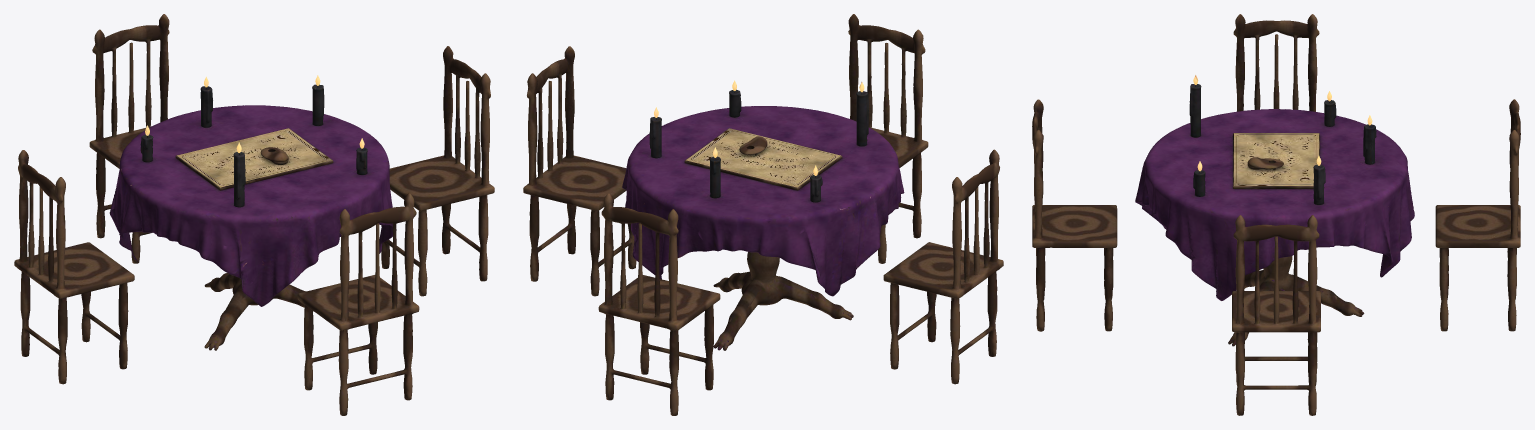
Rendered from seance_table.glb.
3 renders of one model, left to right at view 1: azimuth 30°, elevation 25°; view 2: azimuth 150°, elevation 25°; view 3: azimuth 270°, elevation 25°, orthographic. The views are drawn at different scales.
Visible parts, largest first — view 1: Velvet_Cloth, Chair_0, Chair_3, Chair_1, Chair_2, Board_Face, Seance_Wax, Table, Spirit_Board; view 2: Velvet_Cloth, Chair_2, Chair_3, Chair_1, Chair_0, Board_Face, Table, Seance_Wax, Spirit_Board; view 3: Velvet_Cloth, Chair_1, Chair_0, Chair_2, Board_Face, Chair_3, Seance_Wax, Table.
Part boxes in pixels (box(x1,y1,x2,y2)): Velvet_Cloth: box(109, 105, 396, 306); Chair_0: box(297, 193, 419, 415); Chair_3: box(14, 150, 134, 384); Chair_1: box(381, 46, 494, 296); Chair_2: box(89, 14, 169, 263); Board_Face: box(177, 128, 331, 187); Seance_Wax: box(140, 84, 367, 207); Table: box(204, 273, 313, 350); Spirit_Board: box(175, 128, 333, 190); Velvet_Cloth: box(622, 106, 904, 296); Chair_2: box(598, 193, 720, 415); Chair_3: box(883, 149, 1003, 384); Chair_1: box(523, 46, 636, 296); Chair_0: box(848, 14, 928, 263); Board_Face: box(686, 128, 840, 187); Table: box(713, 252, 853, 350); Seance_Wax: box(649, 89, 868, 202); Spirit_Board: box(684, 128, 842, 190); Velvet_Cloth: box(1135, 109, 1414, 300); Chair_1: box(1232, 215, 1320, 415); Chair_0: box(1032, 99, 1117, 331); Chair_2: box(1435, 99, 1520, 331); Board_Face: box(1234, 133, 1318, 185); Chair_3: box(1233, 14, 1319, 111); Seance_Wax: box(1189, 84, 1376, 204); Table: box(1228, 256, 1364, 346).
Size of the model in its own units: 2.3 by 1.11 by 2.3.
Materials: 1 (1 with a texture image).
